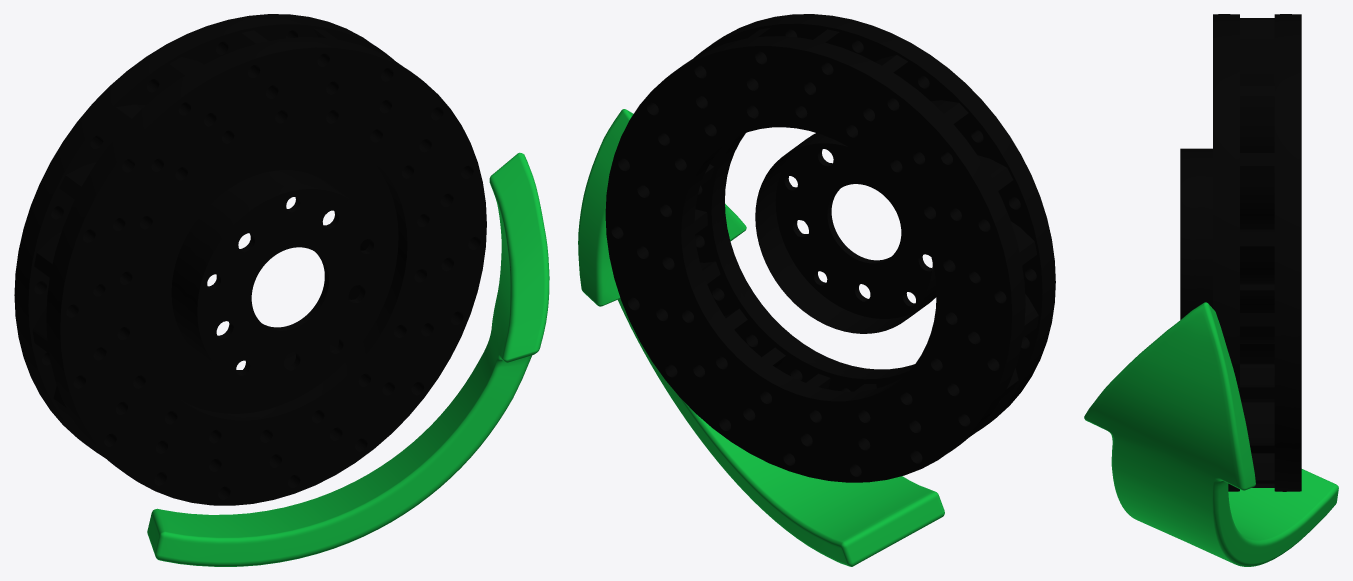
Rendered from disk_green.glb.
The picture shows the model from 3 angles, left to right: view 1: azimuth 30°, elevation 25°; view 2: azimuth 150°, elevation 25°; view 3: azimuth 270°, elevation 25°; orthographic projection. The views are drawn at different scales.
Parts seen in each view (by area): view 1: node_id12, node_id43, node_id9; view 2: node_id12, node_id43, node_id9; view 3: node_id12, node_id43.
Part boxes in pixels (x1,y1,x2,y2): node_id12: (14,14,486,505); node_id43: (147,152,549,566); node_id9: (139,133,407,420); node_id12: (605,14,1055,482); node_id43: (578,109,944,566); node_id9: (716,133,914,375); node_id12: (1180,14,1301,491); node_id43: (1084,302,1338,566).
Size of the model in its own units: 0.5866 by 0.5981 by 0.2727.
3 materials, 3 textured.
